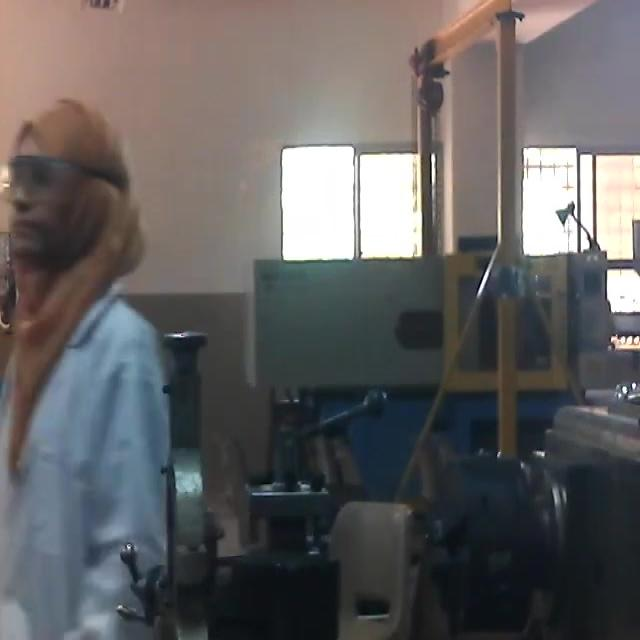googles: (0, 150, 98, 217)
labcoat: (0, 283, 178, 640)
